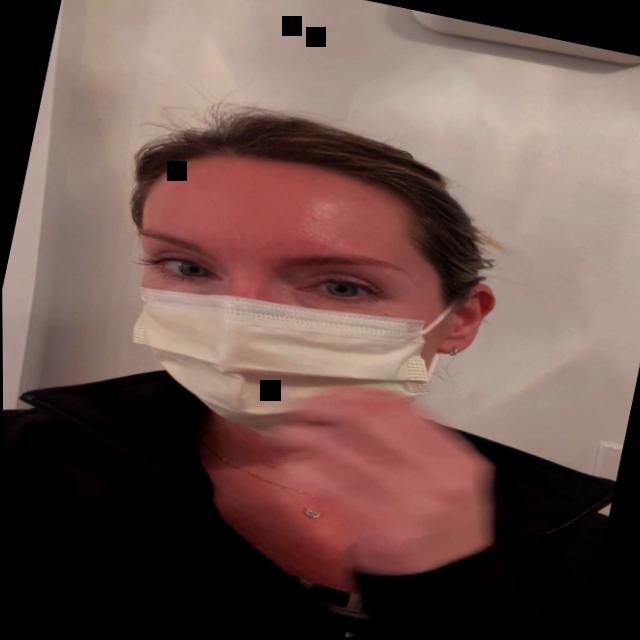Mask: (74, 100, 529, 480)
